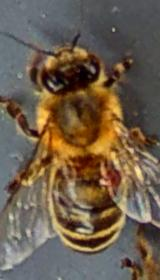varroa_mite: (90, 154, 131, 191)
